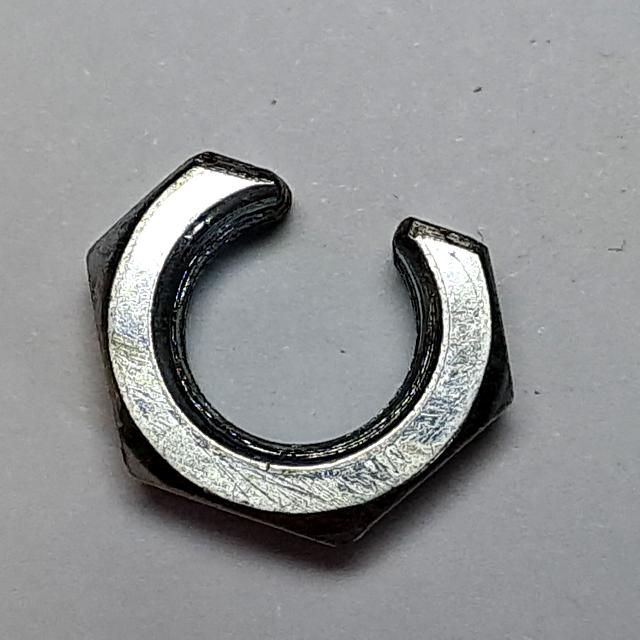Fracture: (72, 143, 530, 562)
